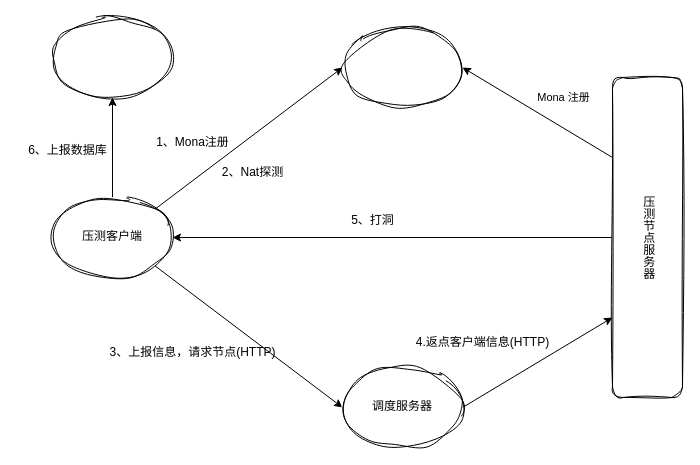
This 700x465 diagram has some shape labels left out. Here are the shapes that lost their labels. From the top down, the centre of each, then its label:
point 112,57: 数据库
point 402,67: Mona 压测服务
